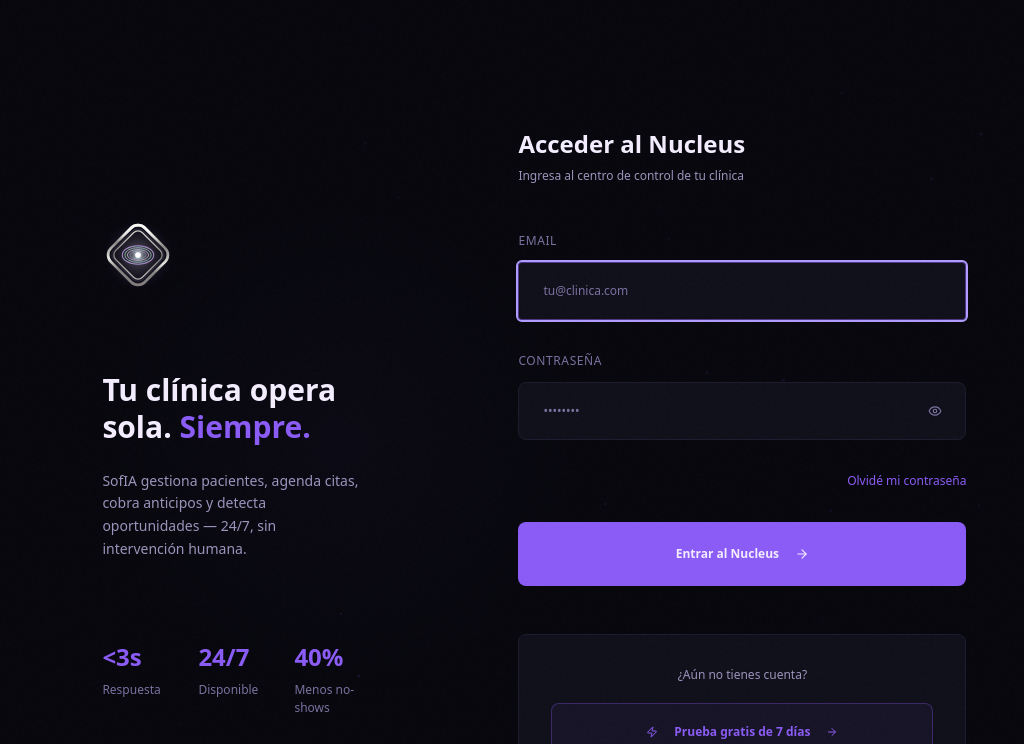
LoginPage › should display translated error for invalid credentials
Type "wrong@email.com" into the field with placeholder "tu@clinica.com" at (742, 291), box [518,262,966,320]
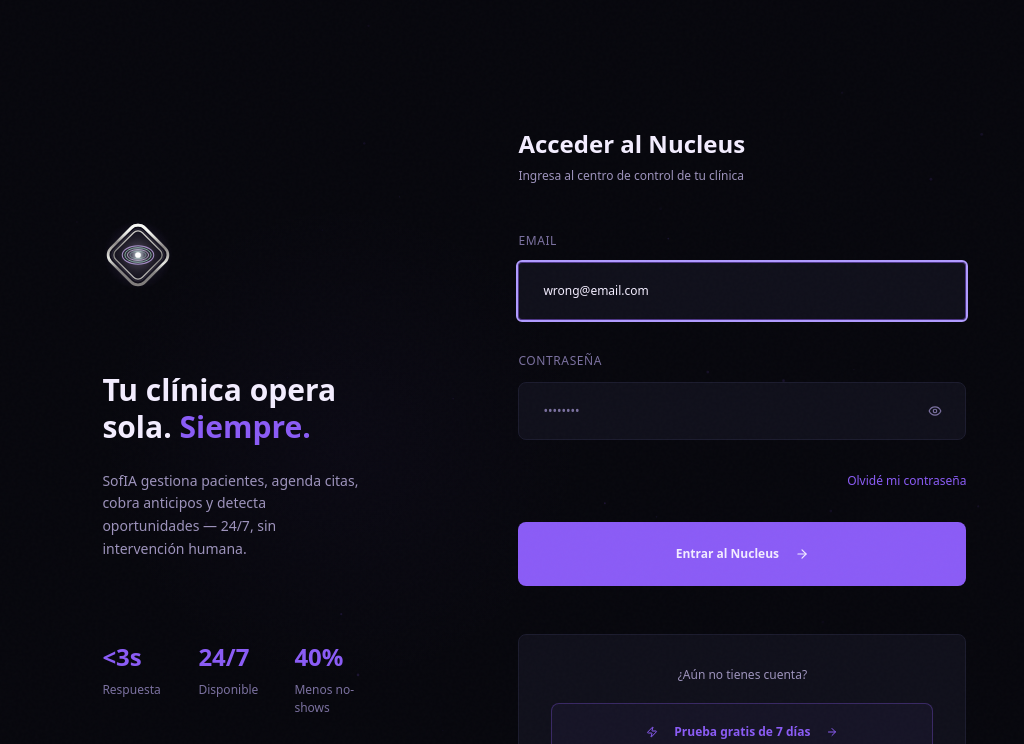
Type "wrongpass" into the password field with placeholder "••••••••" at (742, 411), box [518,382,966,440]
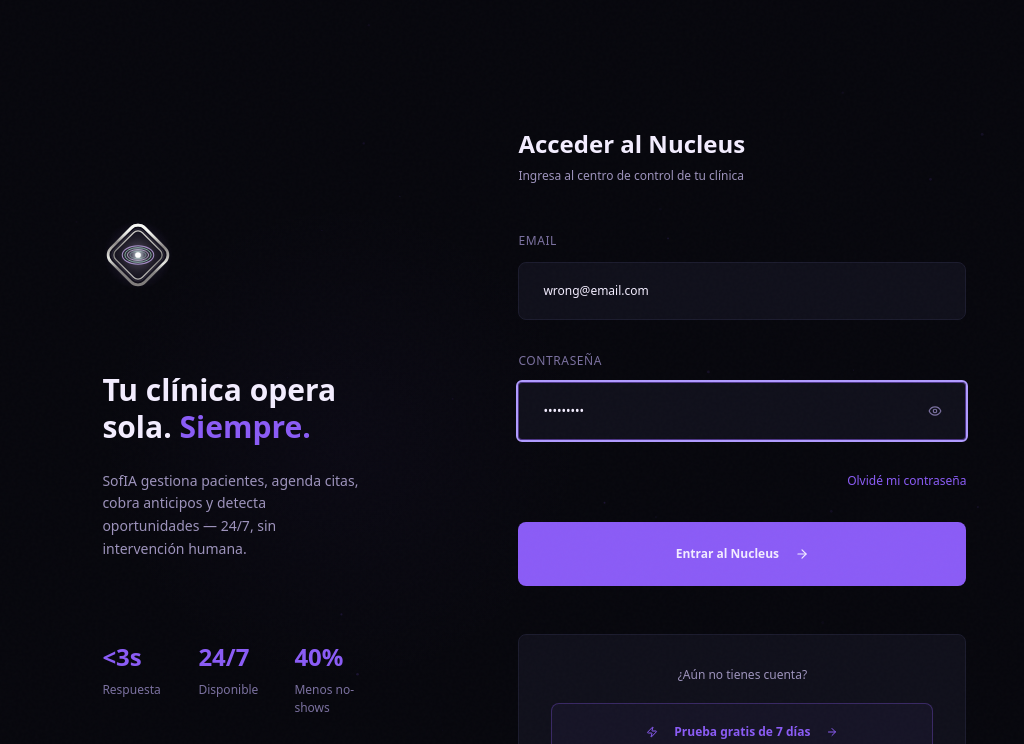
Click the button "Entrar al Nucleus" at (742, 554), box [518,522,966,586]
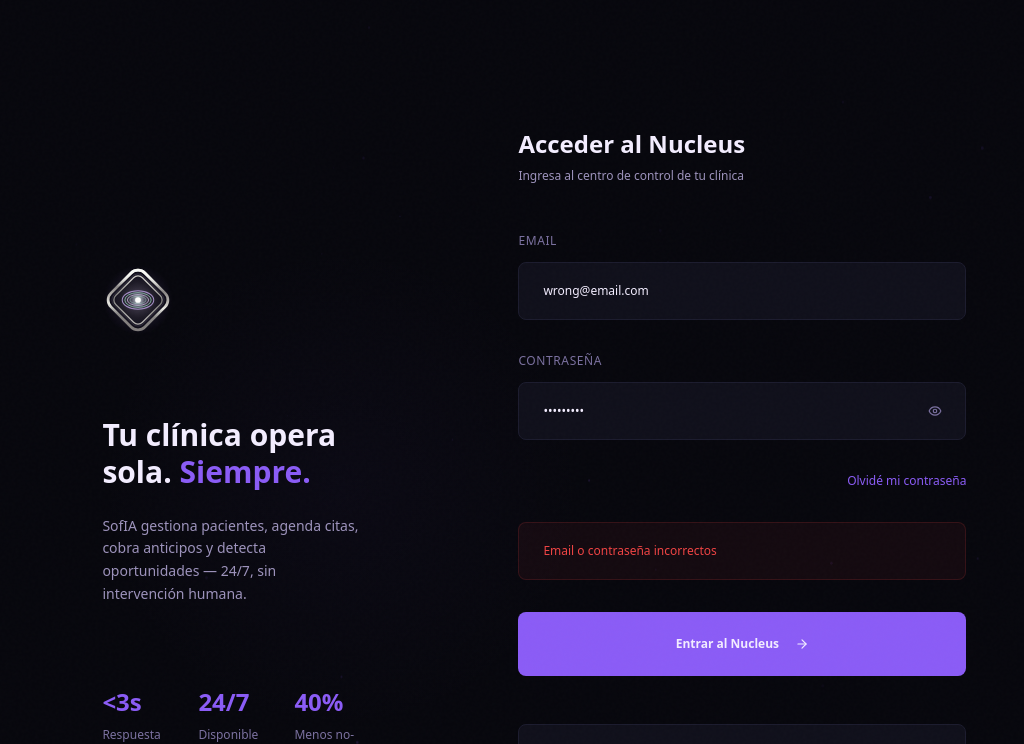
Check: the text "Email o contraseña incorrectos" is shown, box [518,522,966,580]
